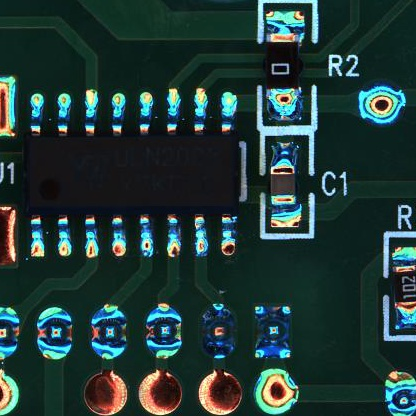spot: (142, 303, 184, 361), (89, 304, 131, 360), (198, 303, 237, 361), (252, 304, 292, 359), (35, 305, 73, 361), (356, 84, 407, 124), (380, 369, 416, 416), (1, 306, 20, 361)
